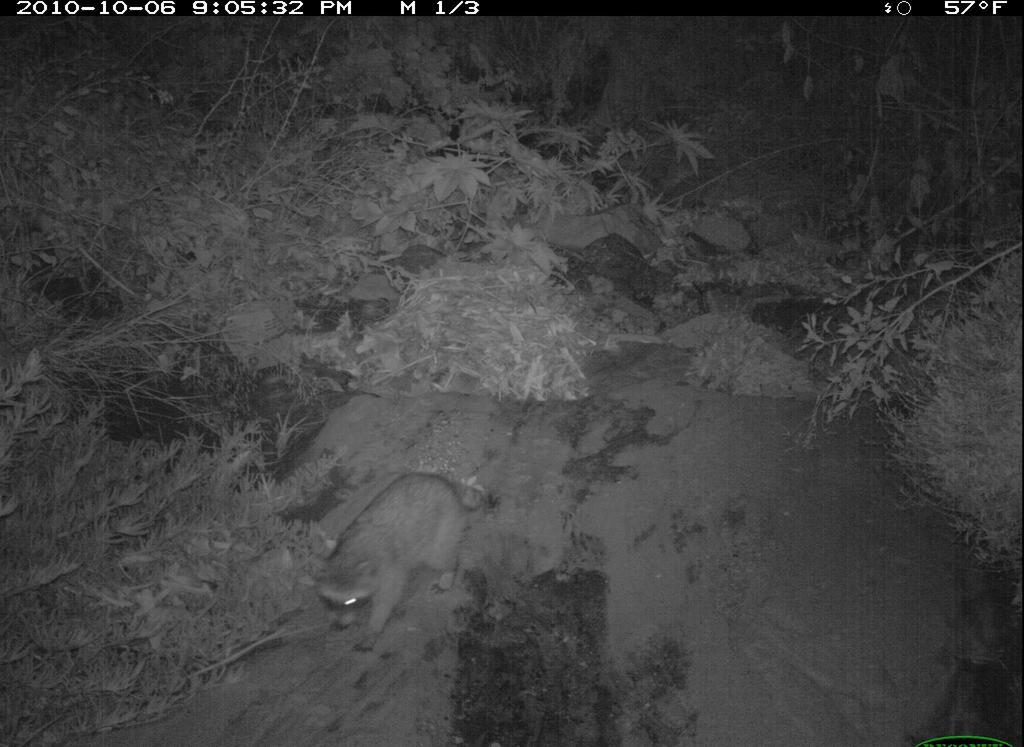raccoon: (299, 465, 500, 652)
